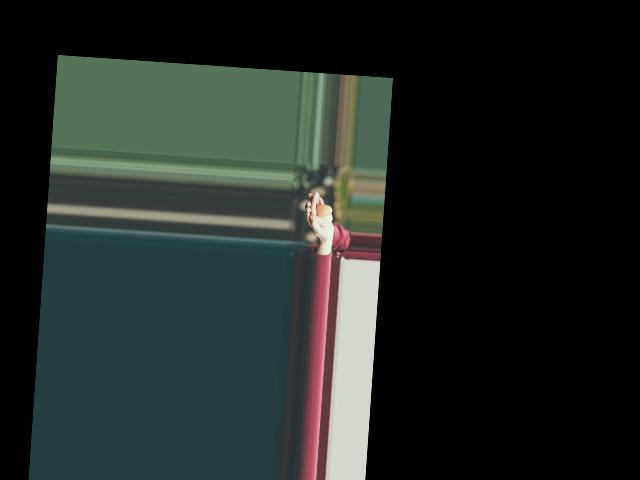egg: (315, 204, 332, 217)
